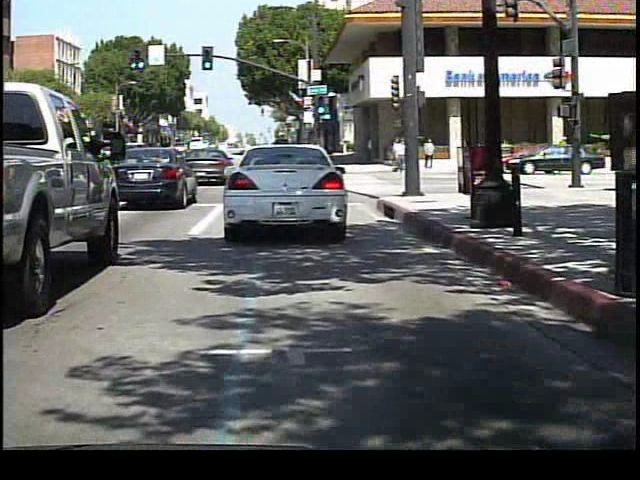person: (485, 135, 505, 172), (421, 136, 438, 169), (392, 137, 405, 176)
